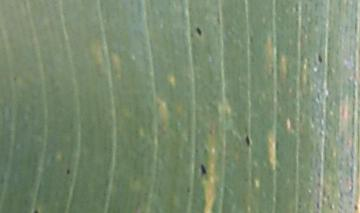tarspot: (195, 163, 210, 177), (193, 23, 205, 38), (244, 134, 254, 149), (316, 53, 325, 67), (30, 207, 42, 213), (64, 167, 73, 175)
